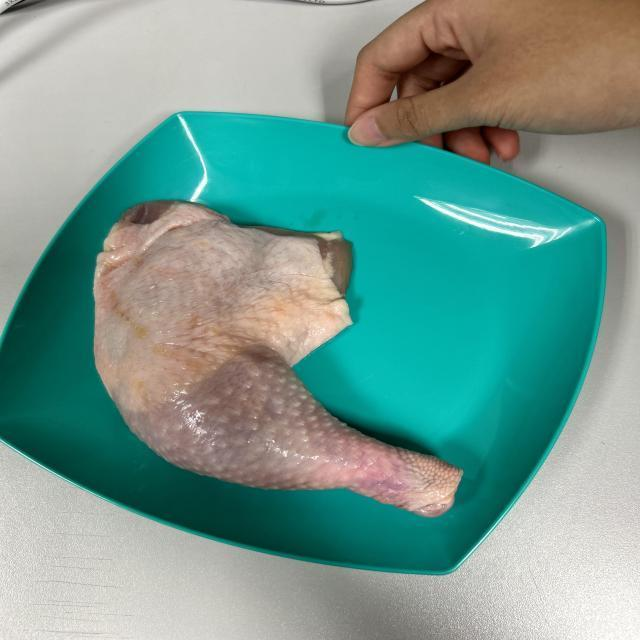quater: (94, 204, 456, 516)
